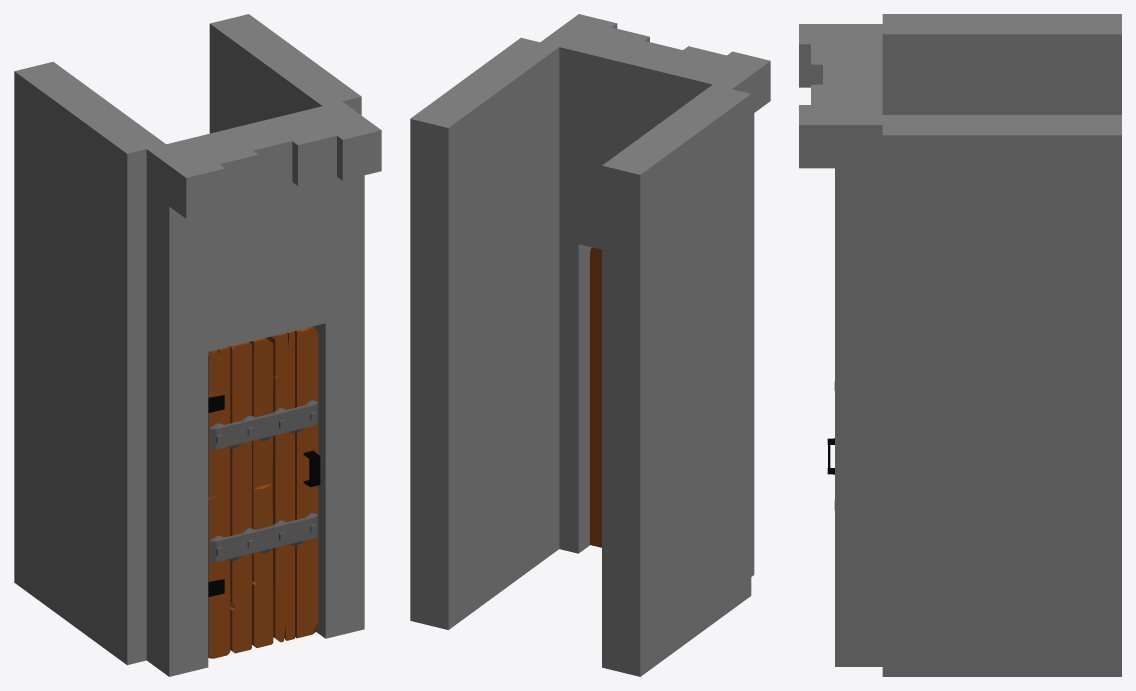
File: DOOR-DAMAGED.fbx
3 views of the same model, side by side, from view 1: azimuth 30°, elevation 25°; view 2: azimuth 150°, elevation 25°; view 3: azimuth 270°, elevation 25° (orthographic). The views are drawn at different scales.
Visible parts, largest first — view 1: Cube, Cube.002, Cube.001, Cube.005, Cube.004, Cube.006, Cube.007, Cube.003, Cube.009, Cube.010; view 2: Cube.001, Cube.002, Cube, Cube.005; view 3: Cube.001, Cube, Cube.002.
Boxes of the visible parts, x1,y1,x2,y2 form: Cube: (146, 101, 381, 676); Cube.002: (14, 61, 165, 665); Cube.001: (209, 14, 361, 133); Cube.005: (294, 327, 318, 638); Cube.004: (266, 331, 294, 642); Cube.006: (229, 342, 251, 653); Cube.007: (208, 347, 230, 658); Cube.003: (249, 338, 273, 647); Cube.009: (209, 400, 318, 449); Cube.010: (209, 513, 318, 561); Cube.001: (410, 37, 559, 629); Cube.002: (602, 84, 751, 676); Cube: (540, 14, 770, 576); Cube.005: (590, 247, 601, 547); Cube.001: (882, 115, 1121, 676); Cube: (799, 24, 882, 666); Cube.002: (882, 14, 1121, 114).
Bounding box in the file's own units: 120 × 250 × 135.
